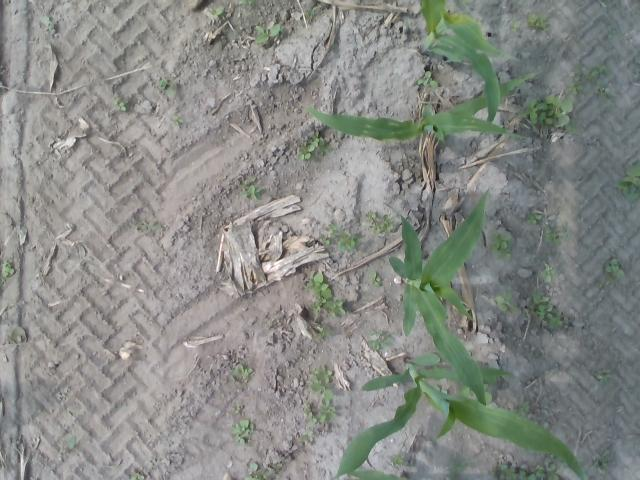Maize: (330, 354, 587, 480), (384, 187, 490, 407), (300, 69, 539, 144), (419, 0, 518, 133), (342, 466, 410, 480)
Weeds: (516, 93, 580, 135), (307, 270, 346, 318), (310, 364, 340, 422), (489, 457, 563, 480), (458, 374, 502, 406), (528, 293, 564, 328), (320, 222, 362, 252), (611, 162, 640, 202), (297, 130, 332, 162), (595, 257, 625, 288), (365, 210, 396, 236), (486, 231, 512, 261), (493, 290, 522, 316), (244, 462, 281, 480), (254, 21, 282, 44), (237, 175, 262, 200), (564, 64, 584, 95), (541, 224, 570, 245), (232, 419, 254, 446), (229, 363, 252, 386), (592, 448, 612, 474), (585, 64, 608, 86), (368, 330, 392, 350), (129, 462, 155, 480), (526, 13, 550, 32), (510, 395, 529, 417), (157, 76, 176, 98), (417, 70, 439, 88), (449, 453, 467, 473), (110, 92, 128, 112), (540, 262, 556, 283), (592, 84, 614, 98), (298, 7, 316, 24), (302, 404, 317, 424), (136, 220, 160, 232), (596, 369, 613, 385), (368, 270, 382, 288), (525, 210, 542, 224), (40, 15, 54, 32), (314, 325, 331, 338), (0, 261, 13, 277), (208, 6, 224, 19), (302, 429, 314, 444), (392, 454, 406, 466), (169, 115, 183, 125), (510, 20, 520, 33), (238, 0, 256, 7), (68, 435, 76, 448), (452, 0, 471, 5), (232, 406, 242, 412)
